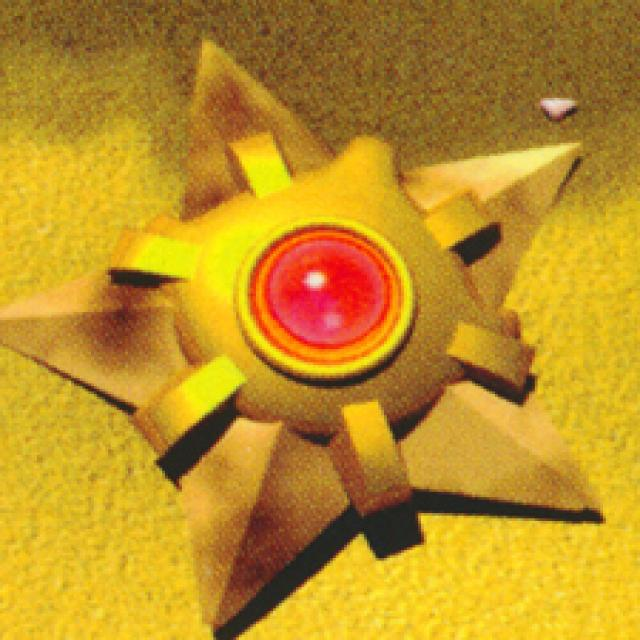Staryu: (6, 35, 602, 640)
